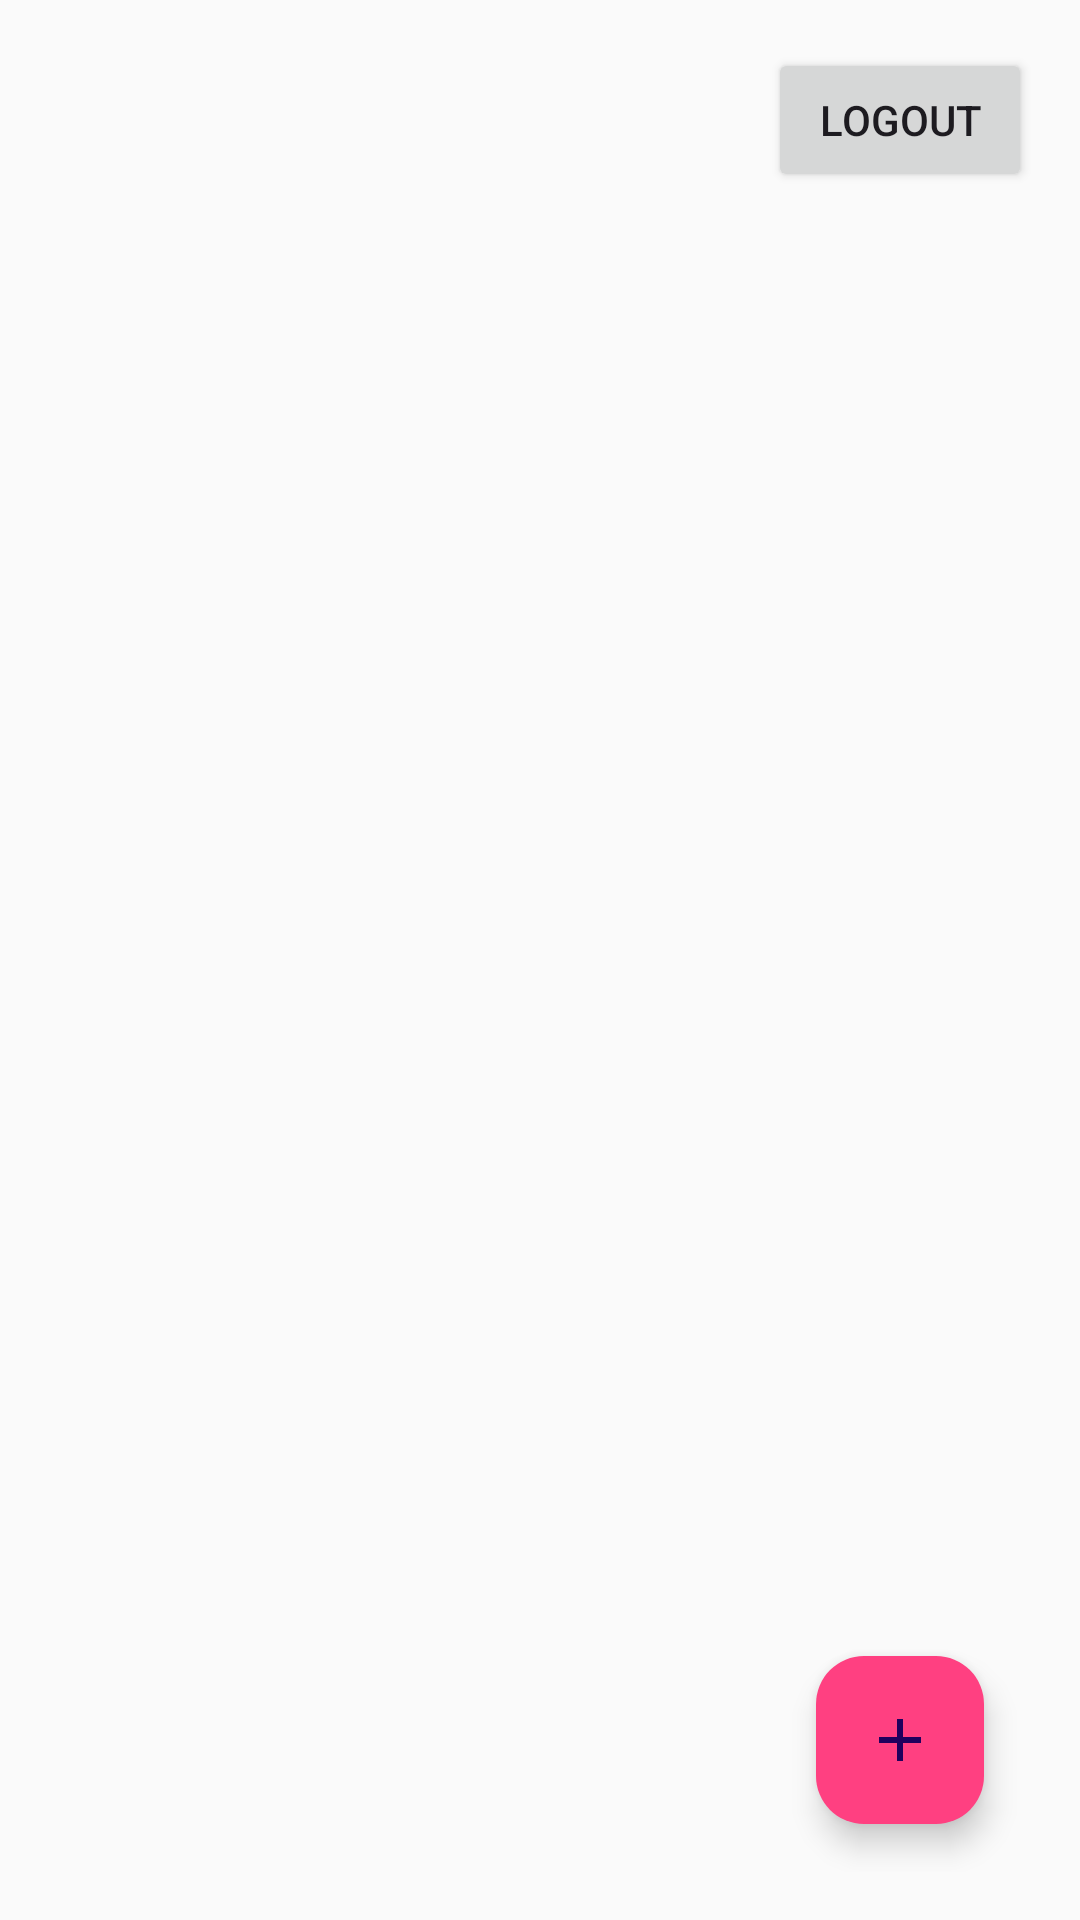

Screen size 1080 × 1920. Icon name, then its box in pixels as (x1, y1, x2, y2):
Add Item: (816, 1656, 984, 1824)
